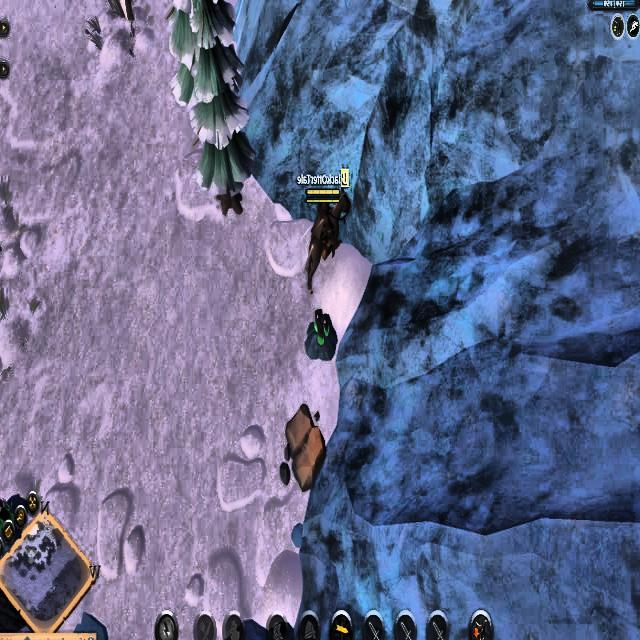limestone: (281, 398, 329, 490)
tinore: (302, 304, 338, 363)
